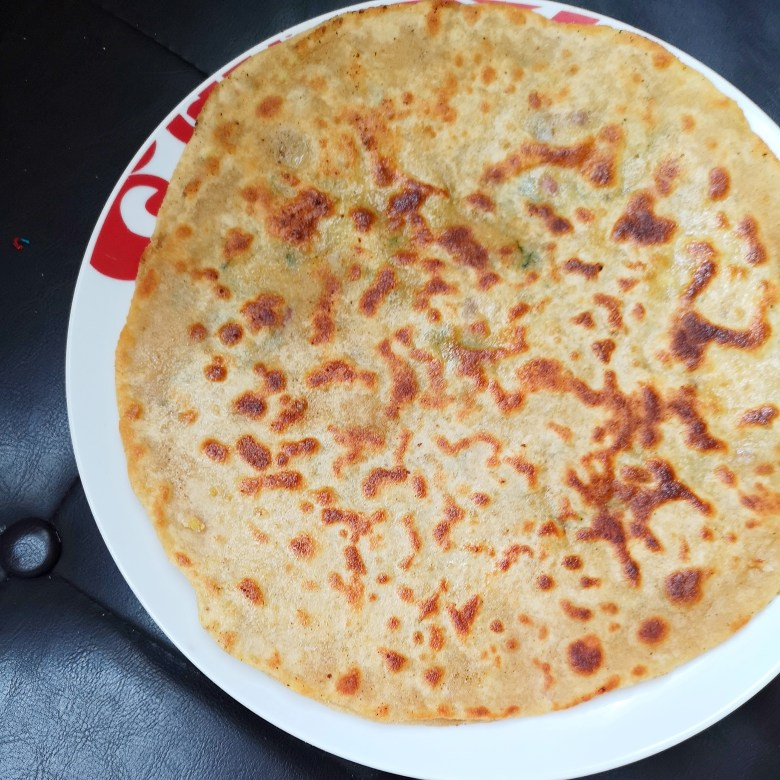aloo_paratha: (115, 1, 780, 726)
